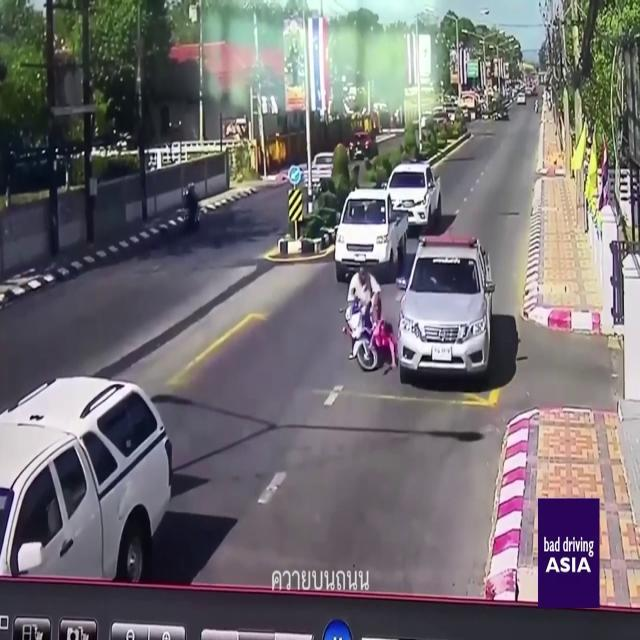multiple_accident: (332, 229, 505, 384)
normal: (2, 330, 309, 583)
